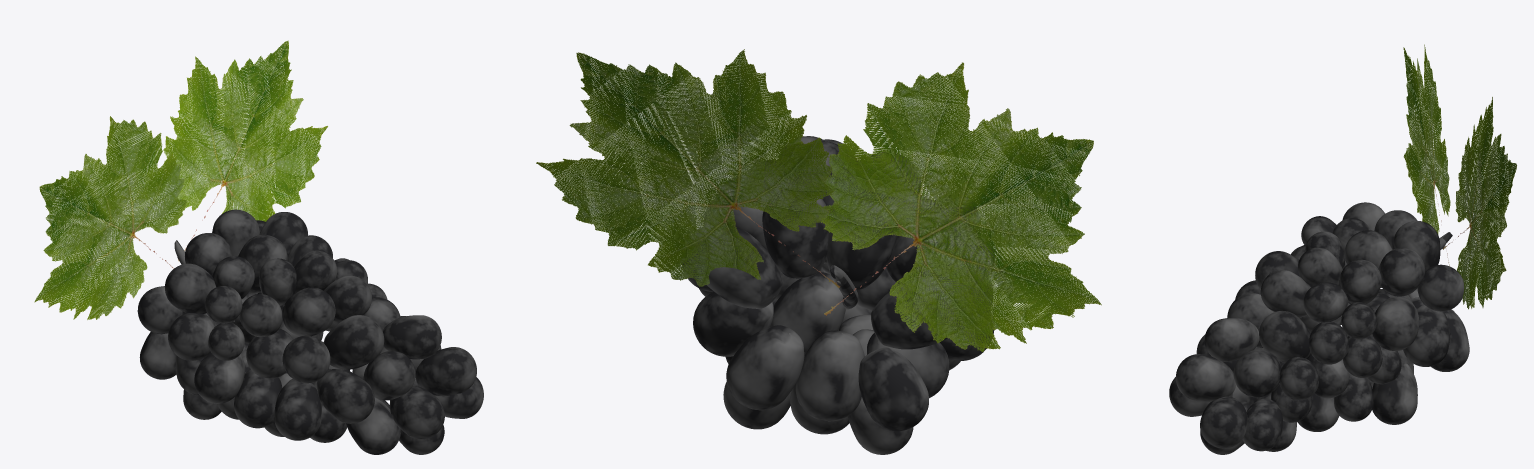
Rendered from anggur.glb.
The picture shows the model from 3 angles, left to right: view 1: azimuth 30°, elevation 25°; view 2: azimuth 150°, elevation 25°; view 3: azimuth 270°, elevation 25°; orthographic projection. The views are drawn at different scales.
Visible parts, largest first — view 1: nurbsToPoly76, Plane.001, Plane; view 2: Plane, nurbsToPoly76, Plane.001; view 3: nurbsToPoly76, Plane.001, Plane.
Boxes of the visible parts, x1=… form: nurbsToPoly76: x1=137, y1=209, x2=483, y2=454; Plane.001: x1=163, y1=40, x2=327, y2=261; Plane: x1=34, y1=116, x2=187, y2=319; Plane: x1=819, y1=62, x2=1101, y2=351; nurbsToPoly76: x1=682, y1=136, x2=994, y2=454; Plane.001: x1=536, y1=49, x2=840, y2=287; nurbsToPoly76: x1=1169, y1=202, x2=1469, y2=454; Plane.001: x1=1443, y1=97, x2=1516, y2=309; Plane: x1=1403, y1=44, x2=1450, y2=265.
Bounding box in the file's own units: 923 × 784 × 741.
3 materials, 3 textured.
